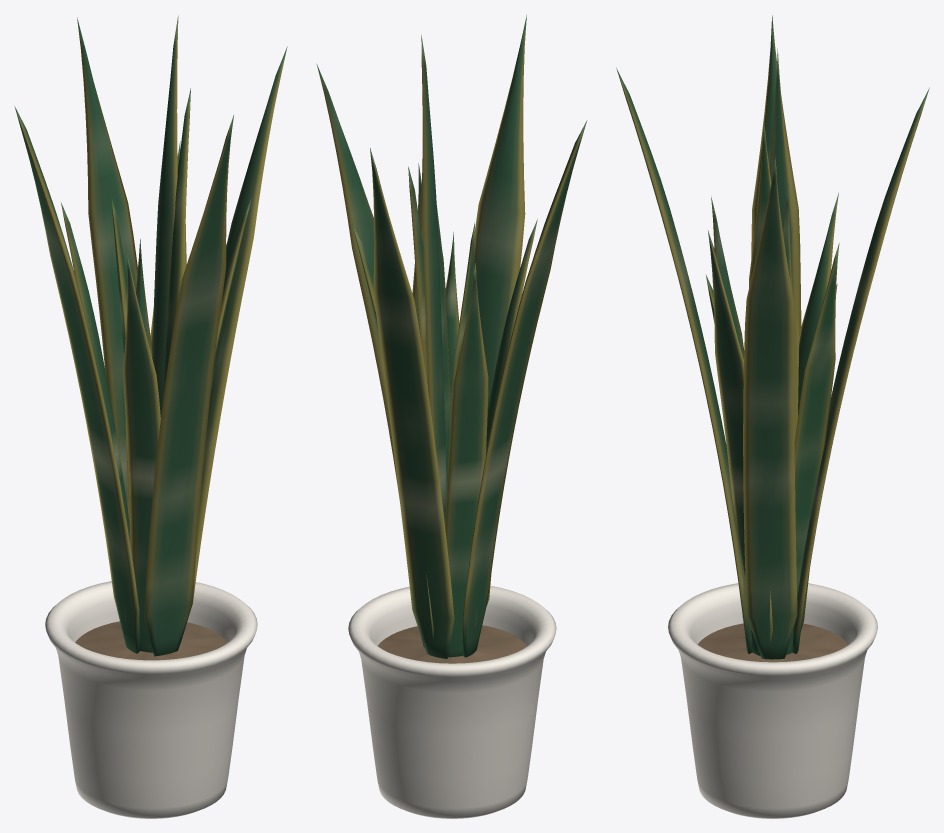
3 renders of one model, left to right at view 1: azimuth 30°, elevation 25°; view 2: azimuth 150°, elevation 25°; view 3: azimuth 270°, elevation 25°, orthographic. The views are drawn at different scales.
Visible parts, largest first — view 1: F015_Leaves, F015_Pot, F015_Soil; view 2: F015_Leaves, F015_Pot, F015_Soil; view 3: F015_Leaves, F015_Pot, F015_Soil.
Part boxes in pixels (x1,y1,x2,y2): F015_Leaves: [14, 15, 287, 656]; F015_Pot: [45, 581, 257, 818]; F015_Soil: [75, 621, 227, 660]; F015_Leaves: [316, 15, 587, 658]; F015_Pot: [348, 585, 556, 818]; F015_Soil: [378, 625, 526, 663]; F015_Leaves: [616, 15, 929, 659]; F015_Pot: [668, 583, 877, 818]; F015_Soil: [697, 623, 848, 662].
Size of the model in its own units: 0.3048 by 0.8128 by 0.3048.
